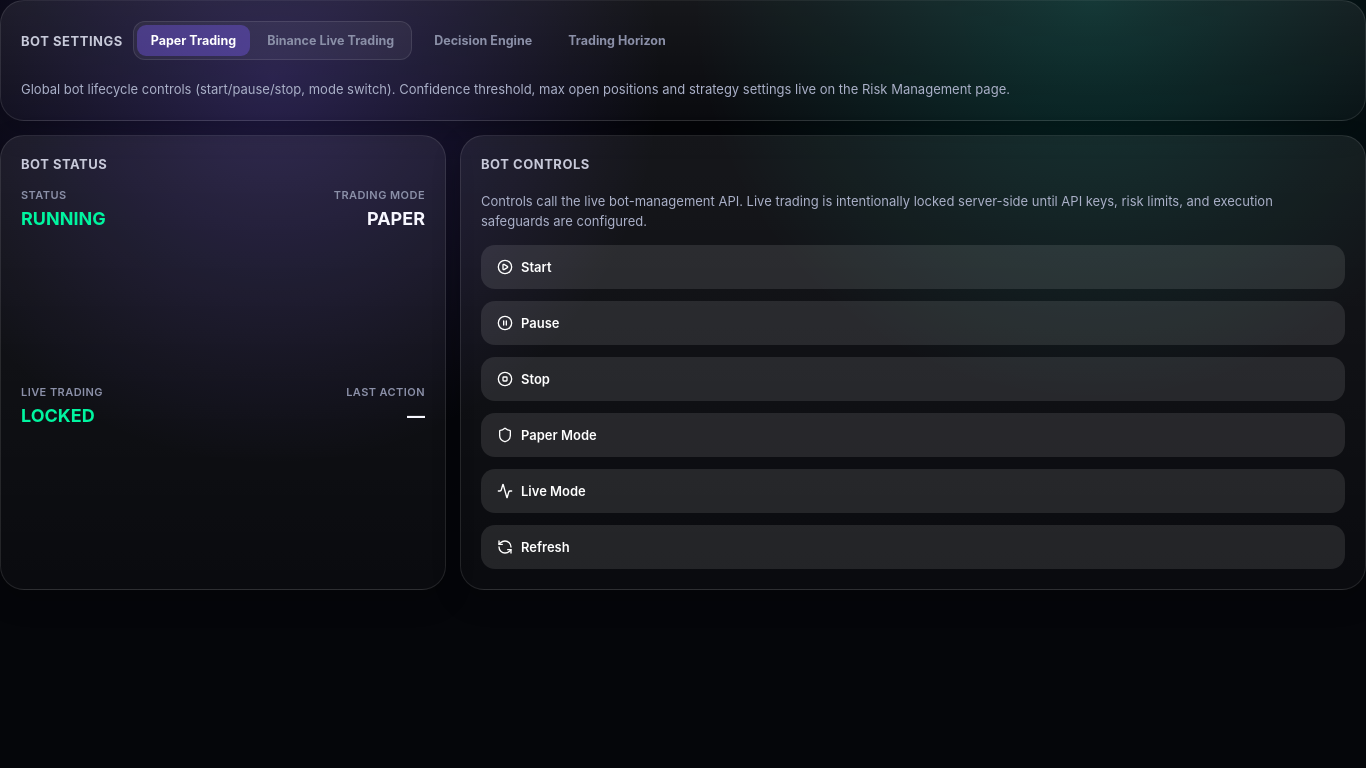
Test case: BotSettingsPage - Binance Live Trading tab › shows the lock button once user live unlock is active
The image size is (1366, 768).
Click the tab "Binance Live Trading": click(331, 40) [253,25,408,56]
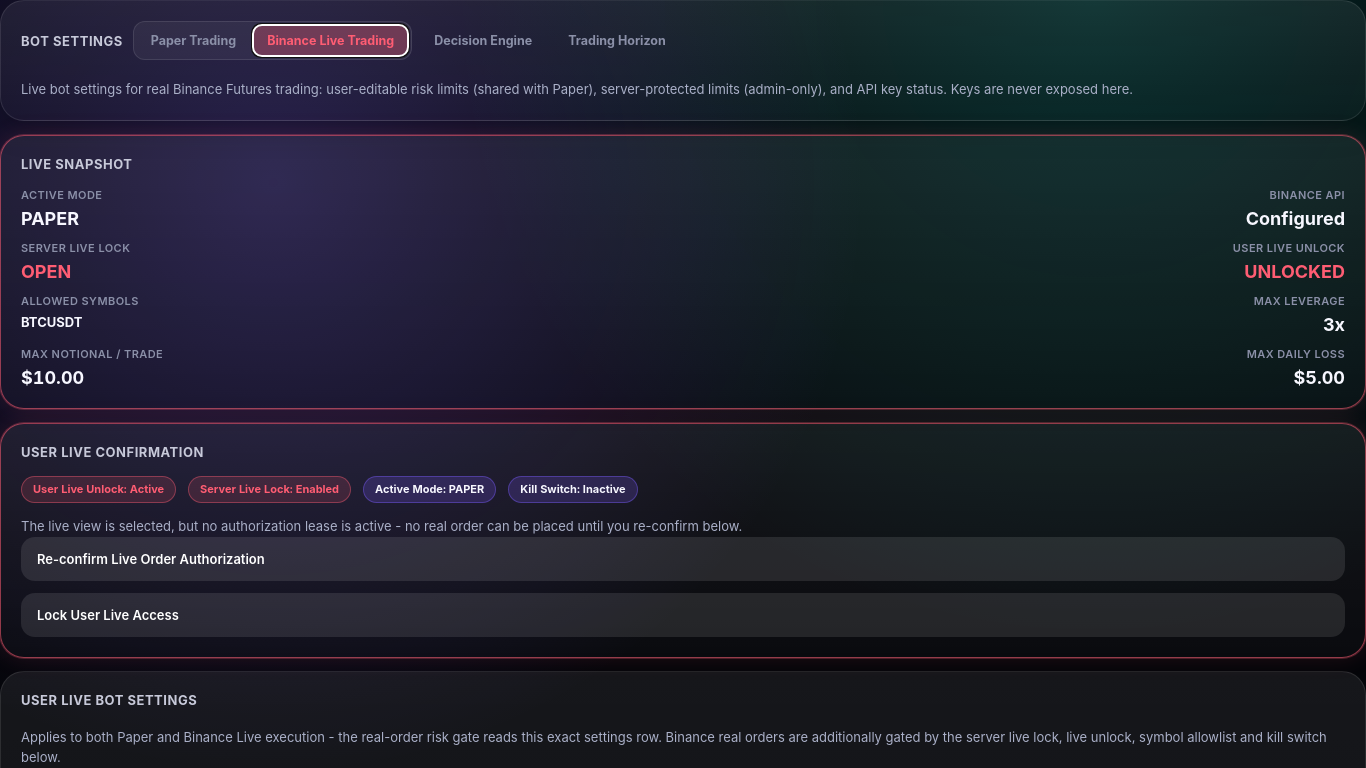
Check: the button "Re-confirm Live Order Authorization" is shown, box [21,536,1345,580]
Check: the button "Lock User Live Access" is shown, box [21,592,1345,636]
